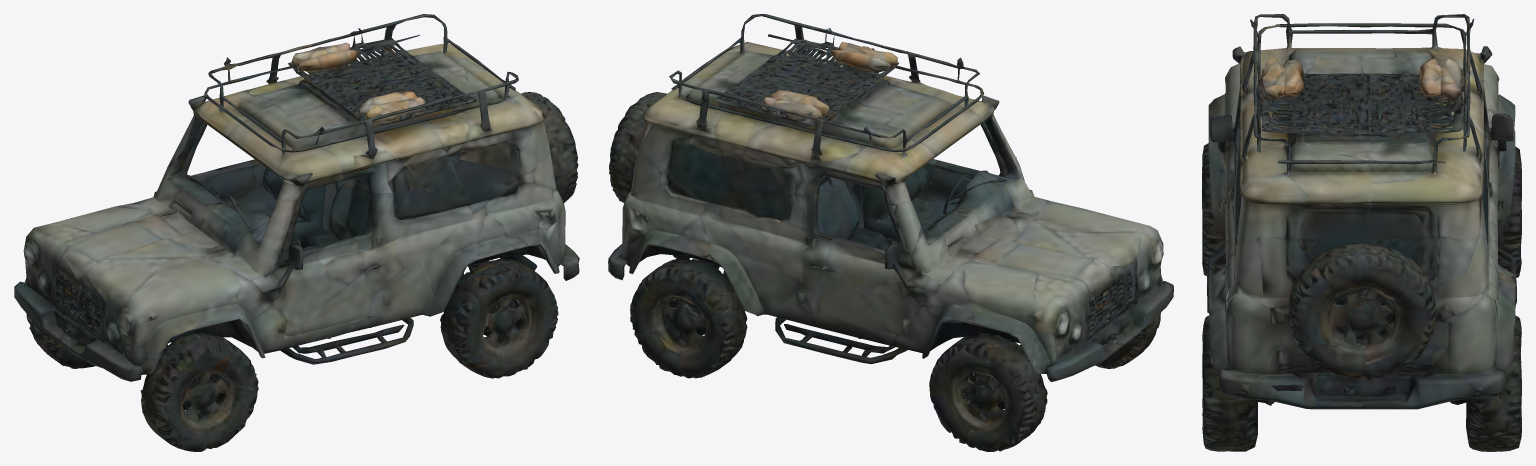
Rendered from car_suv_light_q2.glb.
3 views of the same model, side by side, from view 1: azimuth 30°, elevation 25°; view 2: azimuth 150°, elevation 25°; view 3: azimuth 270°, elevation 25° (orthographic). The views are drawn at different scales.
Size of the model in its own units: 3.29 by 1.8 by 1.58.
Materials: 1 (1 with a texture image).
